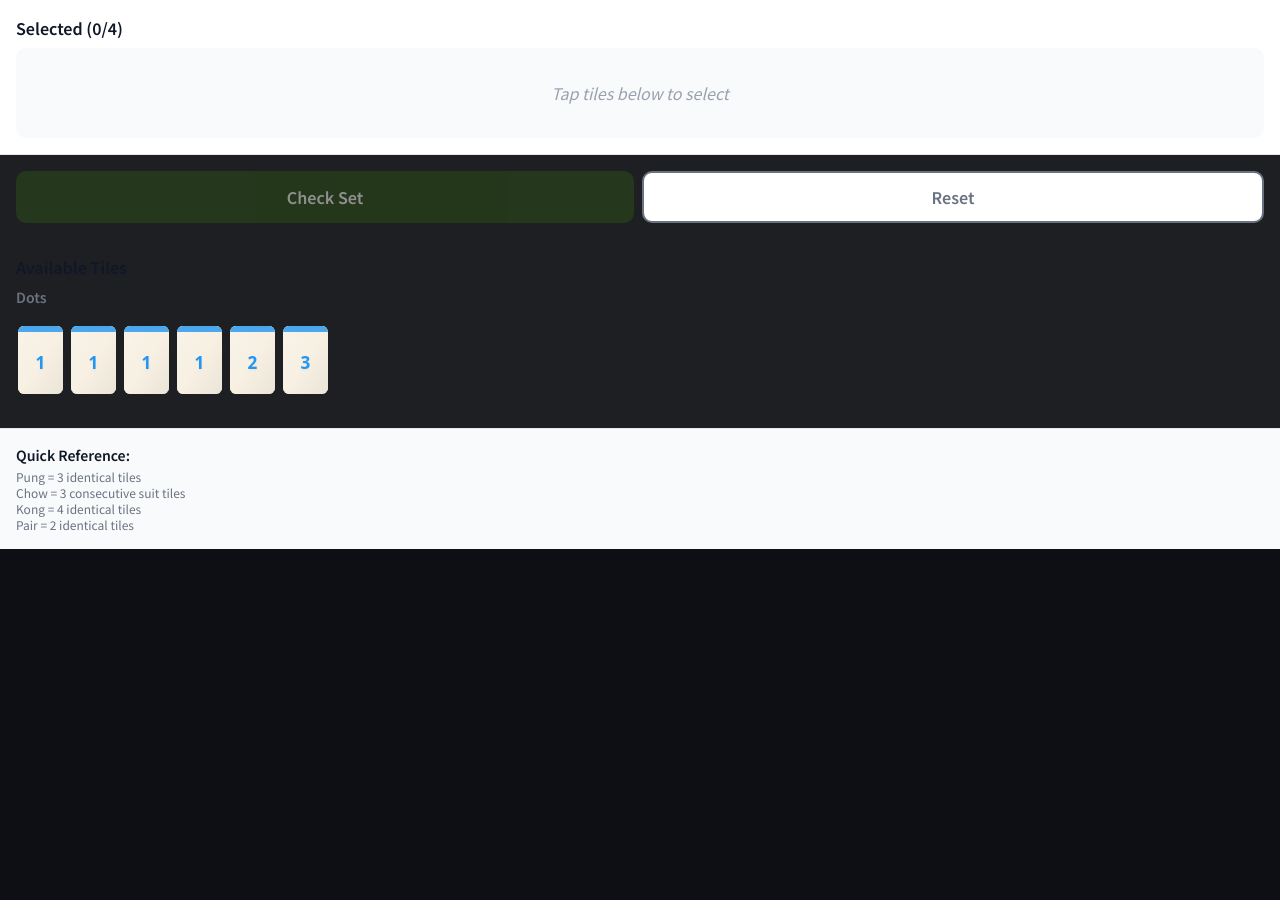
Test: SetBuilder › reset clears selection and validation
The image size is (1280, 900).
What coordinates should you click on to do the following:
click the 1st button "1"
I would click on:
 (40, 354)
Its box is left=16, top=311, right=65, bottom=396.
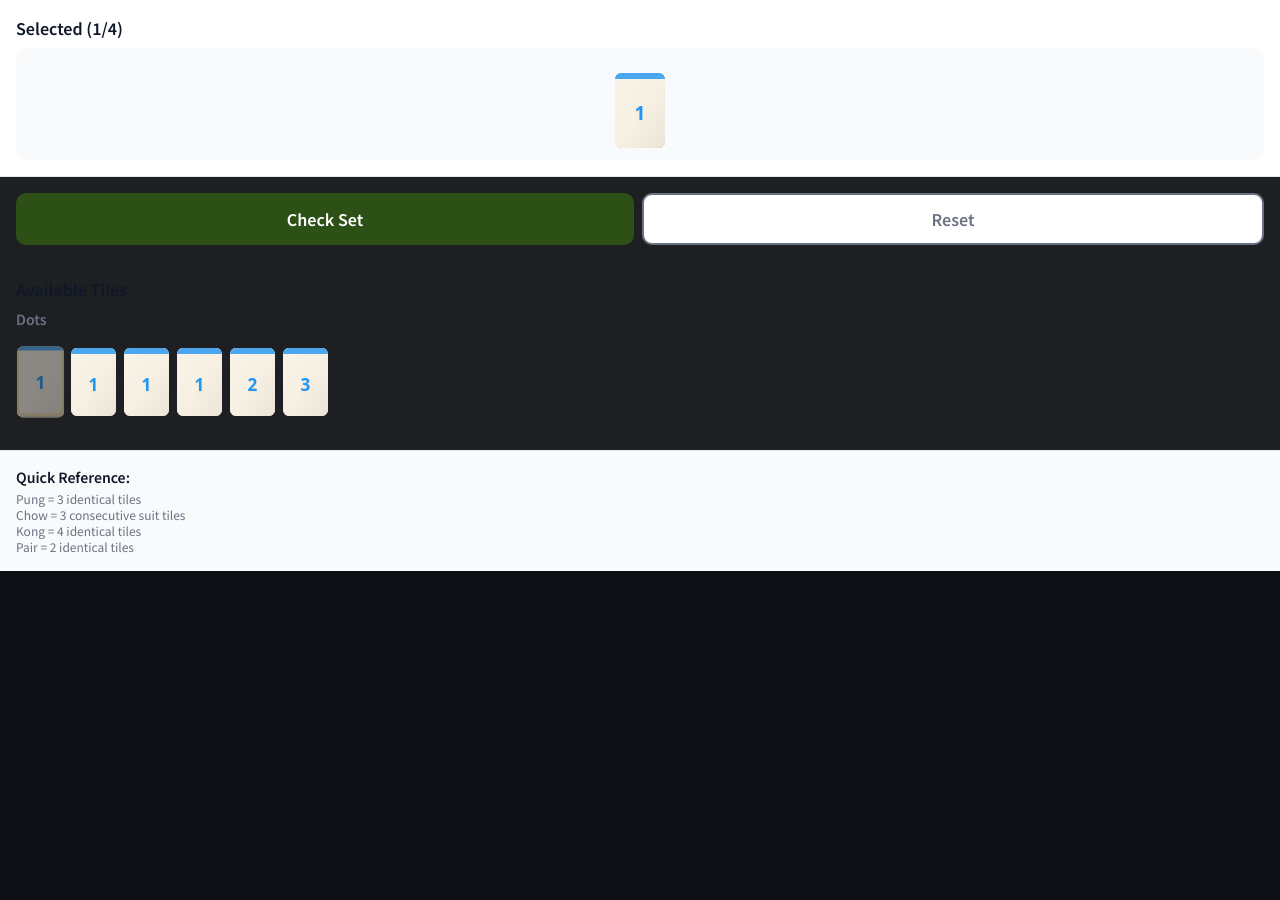
What coordinates should you click on to do the following:
click the button "Check Set"
I would click on:
 (325, 219)
Its box is left=16, top=193, right=634, bottom=245.
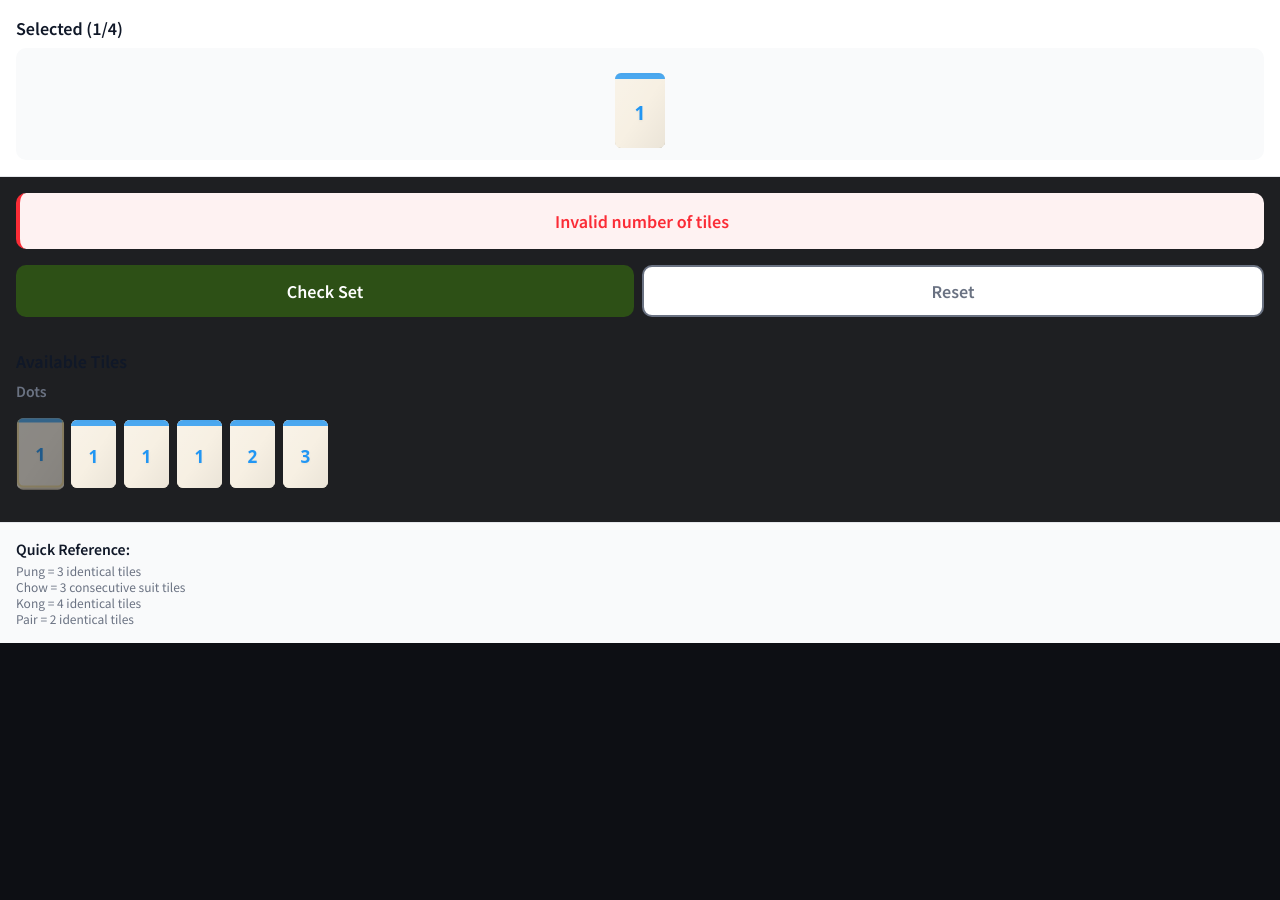
What coordinates should you click on to do the following:
click the button "Reset"
I would click on:
 (953, 291)
Its box is left=642, top=265, right=1264, bottom=317.
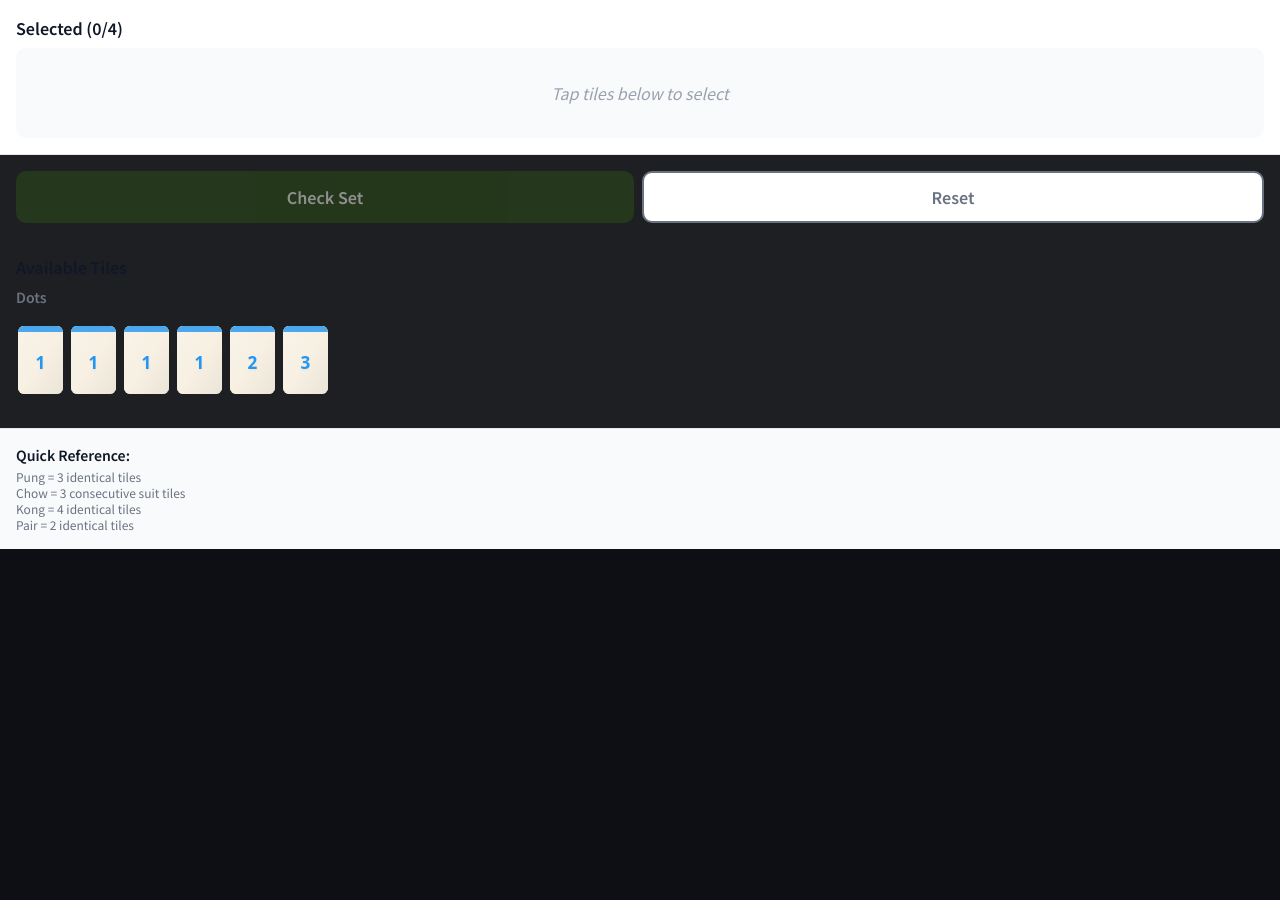
Now the button "Check Set" is disabled, box left=16, top=171, right=634, bottom=223
